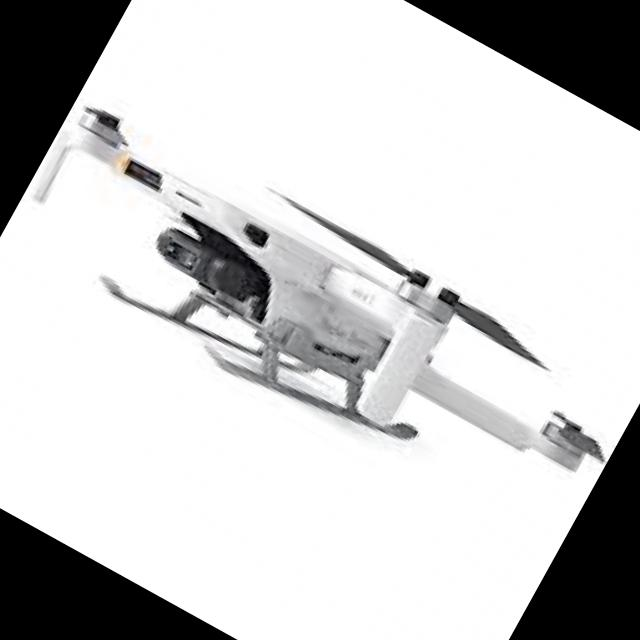drone: (0, 49, 640, 567)
